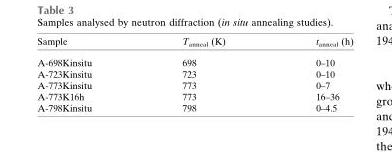table: (36, 36, 352, 112)
table column: (136, 36, 270, 112), (36, 36, 136, 112), (270, 36, 352, 112)
table column header: (36, 36, 352, 52)
table row: (36, 36, 352, 52), (36, 52, 352, 68), (36, 79, 352, 91), (36, 68, 352, 79), (36, 91, 352, 102), (36, 102, 352, 112)
